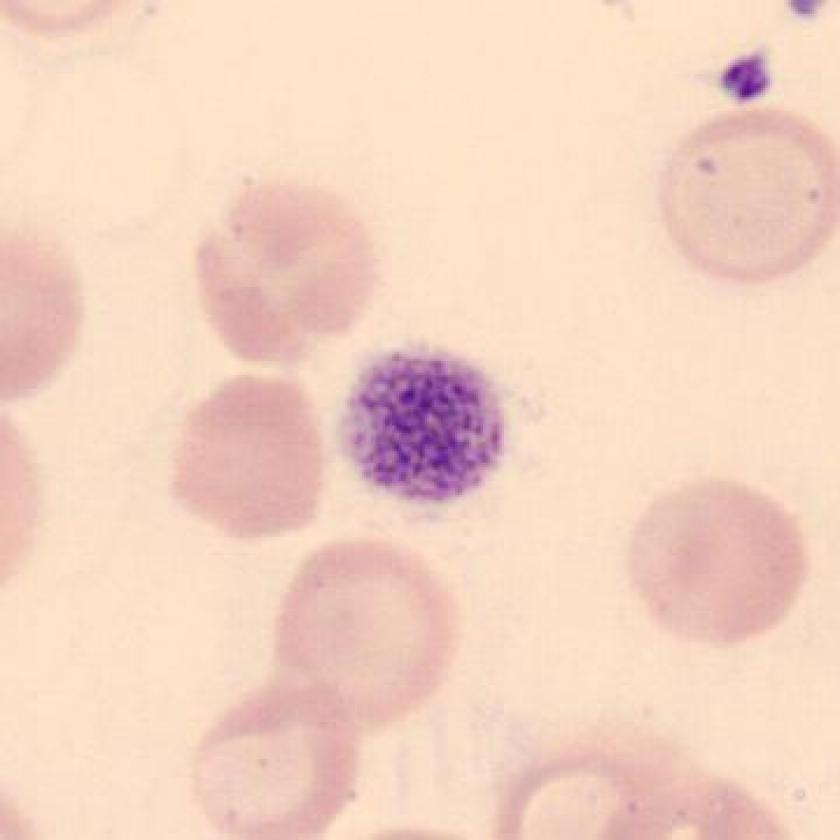platelets: (330, 335, 521, 520), (703, 38, 790, 117)
